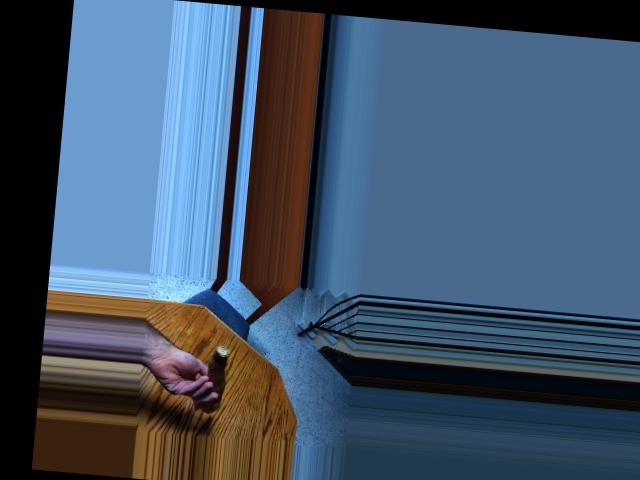sweet_potato: (195, 342, 232, 413)
